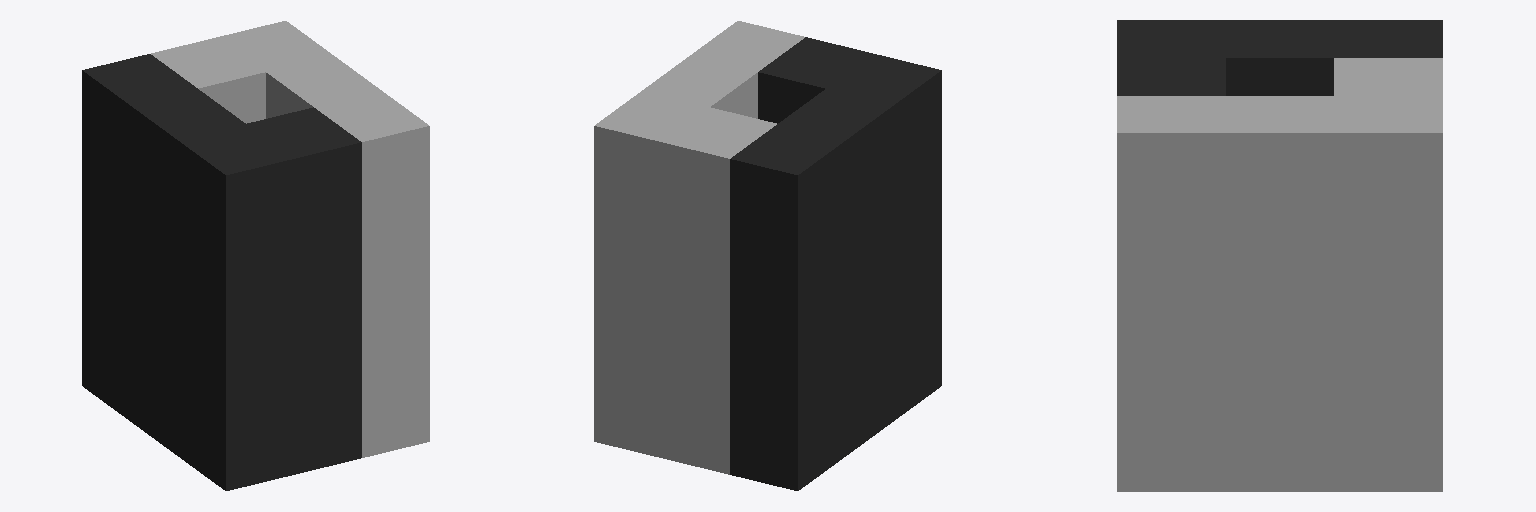
URDF robot description (square_hole):
<robot name="square_hole">

 <material name="black">
    <color rgba="0 0 0 1"/>
  </material>
  <material name="darkgray">
    <color rgba="0.2 0.2 0.2 0.4"/>
  </material>
  <material name="enthocolor">
    <color rgba="0.7 0.7 0.7 0.4"/>
  </material>


  <link name="base">
    <visual>
      <geometry>
        <box size="0.18 0.22 0.1"/>
      </geometry>
      <material name="black"/>
    </visual>
    <collision>
      <geometry>
        <box size="0.18 0.22 0.1"/>
      </geometry>
    </collision>
    <inertial>
      <mass value="10"/>
      <inertia ixx="0.4" ixy="0.0" ixz="0.0" iyy="0.4" iyz="0.0" izz="0.2"/>
    </inertial>
    <contact>
      <lateral_friction value="1.0"/>
      <rolling_friction value="0.0"/>
      <contact_cfm value="0.0"/>
      <contact_erp value="1.0"/>
    </contact>
  </link>

  <link name="side1">
    <visual>
      <geometry>
        <box size="0.18 0.22 0.8"/>
      </geometry>
      <origin rpy="0 0 0" xyz="0 0 0.35"/>
      <material name="enthocolor"/>
    </visual>
    <collision>
      <geometry>
        <box size="0.18 0.22 0.8"/>
      </geometry>
      <origin rpy="0 0 0" xyz="0 0 0.35"/>
    </collision>
    <inertial>
      <mass value="10"/>
      <inertia ixx="0.4" ixy="0.0" ixz="0.0" iyy="0.4" iyz="0.0" izz="0.2"/>
    </inertial>
    <contact>
      <lateral_friction value="1.0"/>
      <rolling_friction value="0.0"/>
      <contact_cfm value="0.0"/>
      <contact_erp value="1.0"/>
    </contact>
  </link>

  <link name="side2">
    <visual>
      <geometry>
        <box size="0.18 0.22 0.8"/>
      </geometry>
      <origin rpy="0 0 0" xyz="0 0 0.35"/>
      <material name="darkgray"/>
    </visual>
    <collision>
      <geometry>
        <box size="0.18 0.22 0.8"/>
      </geometry>
      <origin rpy="0 0 0" xyz="0 0 0.35"/>
    </collision>
    <inertial>
      <mass value="10"/>
      <inertia ixx="0.4" ixy="0.0" ixz="0.0" iyy="0.4" iyz="0.0" izz="0.2"/>
    </inertial>
    <contact>
      <lateral_friction value="1.0"/>
      <rolling_friction value="0.0"/>
      <contact_cfm value="0.0"/>
      <contact_erp value="1.0"/>
    </contact>
  </link>

  <link name="side3">
    <visual>
      <geometry>
        <box size="0.18 0.66 0.8"/>
      </geometry>
      <origin rpy="0 0 0" xyz="0 0 0.35"/>
      <material name="darkgray"/>
    </visual>
    <collision>
      <geometry>
        <box size="0.18 0.66 0.8"/>
      </geometry>
      <origin rpy="0 0 0" xyz="0 0 0.35"/>
    </collision>
    <inertial>
      <mass value="10"/>
      <inertia ixx="0.4" ixy="0.0" ixz="0.0" iyy="0.4" iyz="0.0" izz="0.2"/>
    </inertial>
    <contact>
      <lateral_friction value="1.0"/>
      <rolling_friction value="0.0"/>
      <contact_cfm value="0.0"/>
      <contact_erp value="1.0"/>
    </contact>
  </link>

  <link name="side4">
    <visual>
      <geometry>
        <box size="0.18 0.66 0.8"/>
      </geometry>
      <origin rpy="0 0 0" xyz="0 0 0.35"/>
      <material name="enthocolor"/>
    </visual>
    <collision>
      <geometry>
        <box size="0.18 0.66 0.8"/>
      </geometry>
      <origin rpy="0 0 0" xyz="0 0 0.35"/>
    </collision>
    <inertial>
      <mass value="10"/>
      <inertia ixx="0.4" ixy="0.0" ixz="0.0" iyy="0.4" iyz="0.0" izz="0.2"/>
    </inertial>
    <contact>
      <lateral_friction value="1.0"/>
      <rolling_friction value="0.0"/>
      <contact_cfm value="0.0"/>
      <contact_erp value="1.0"/>
    </contact>
  </link>

  <joint name="base_to_right" type="fixed">
    <parent link="base"/>
    <child link="side1"/>
    <origin xyz="0 0.22 0"/>
  </joint>

  <joint name="base_to_left" type="fixed">
    <parent link="base"/>
    <child link="side2"/>
    <origin xyz="0 -0.22 0"/>
  </joint>

  <joint name="base_to_side3" type="fixed">
    <parent link="base"/>
    <child link="side3"/>
    <origin xyz="-0.18 0 0"/>
  </joint>

  <joint name="base_to_side4" type="fixed">
    <parent link="base"/>
    <child link="side4"/>
    <origin xyz="0.18 0 0"/>
  </joint>


</robot>

--- Facts derived from the render (not from the file) ---
3 views of the same robot in one strip: view 1: azimuth 30°, elevation 25°; view 2: azimuth 150°, elevation 25°; view 3: azimuth 270°, elevation 25° (orthographic).
Robot: square_hole — 5 links, 4 joints (4 fixed); root link base; default pose: all joints at 0.
Links seen in each view (by area): view 1: side3, side4, side2, side1; view 2: side3, side4, side1, side2; view 3: side4, side3, side1, side2.
Link boxes in pixels (bbox=[...]): side3: bbox=[82, 54, 293, 490]; side4: bbox=[219, 21, 429, 457]; side2: bbox=[247, 107, 361, 474]; side1: bbox=[151, 37, 265, 123]; side3: bbox=[730, 54, 941, 490]; side4: bbox=[594, 21, 804, 457]; side1: bbox=[662, 107, 776, 474]; side2: bbox=[758, 37, 872, 123]; side4: bbox=[1117, 96, 1442, 491]; side3: bbox=[1117, 20, 1442, 95]; side1: bbox=[1334, 58, 1442, 95]; side2: bbox=[1117, 58, 1225, 95].
Size in the robot's own frame: 0.54 by 0.66 by 0.8 metres.
Geometry: primitives only (box / cylinder / sphere), no mesh files.